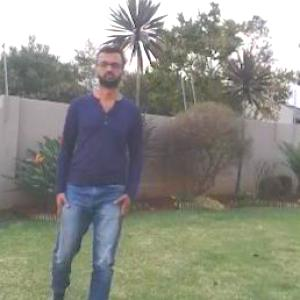follow: (51, 31, 147, 299)
